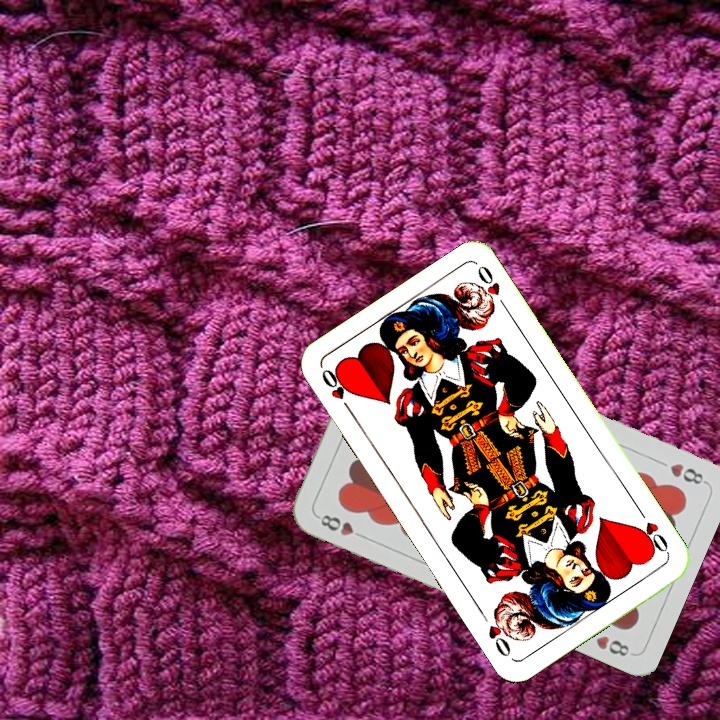H8: (313, 510, 369, 542), (666, 459, 709, 487)
HO: (632, 504, 672, 557), (317, 365, 355, 417)
